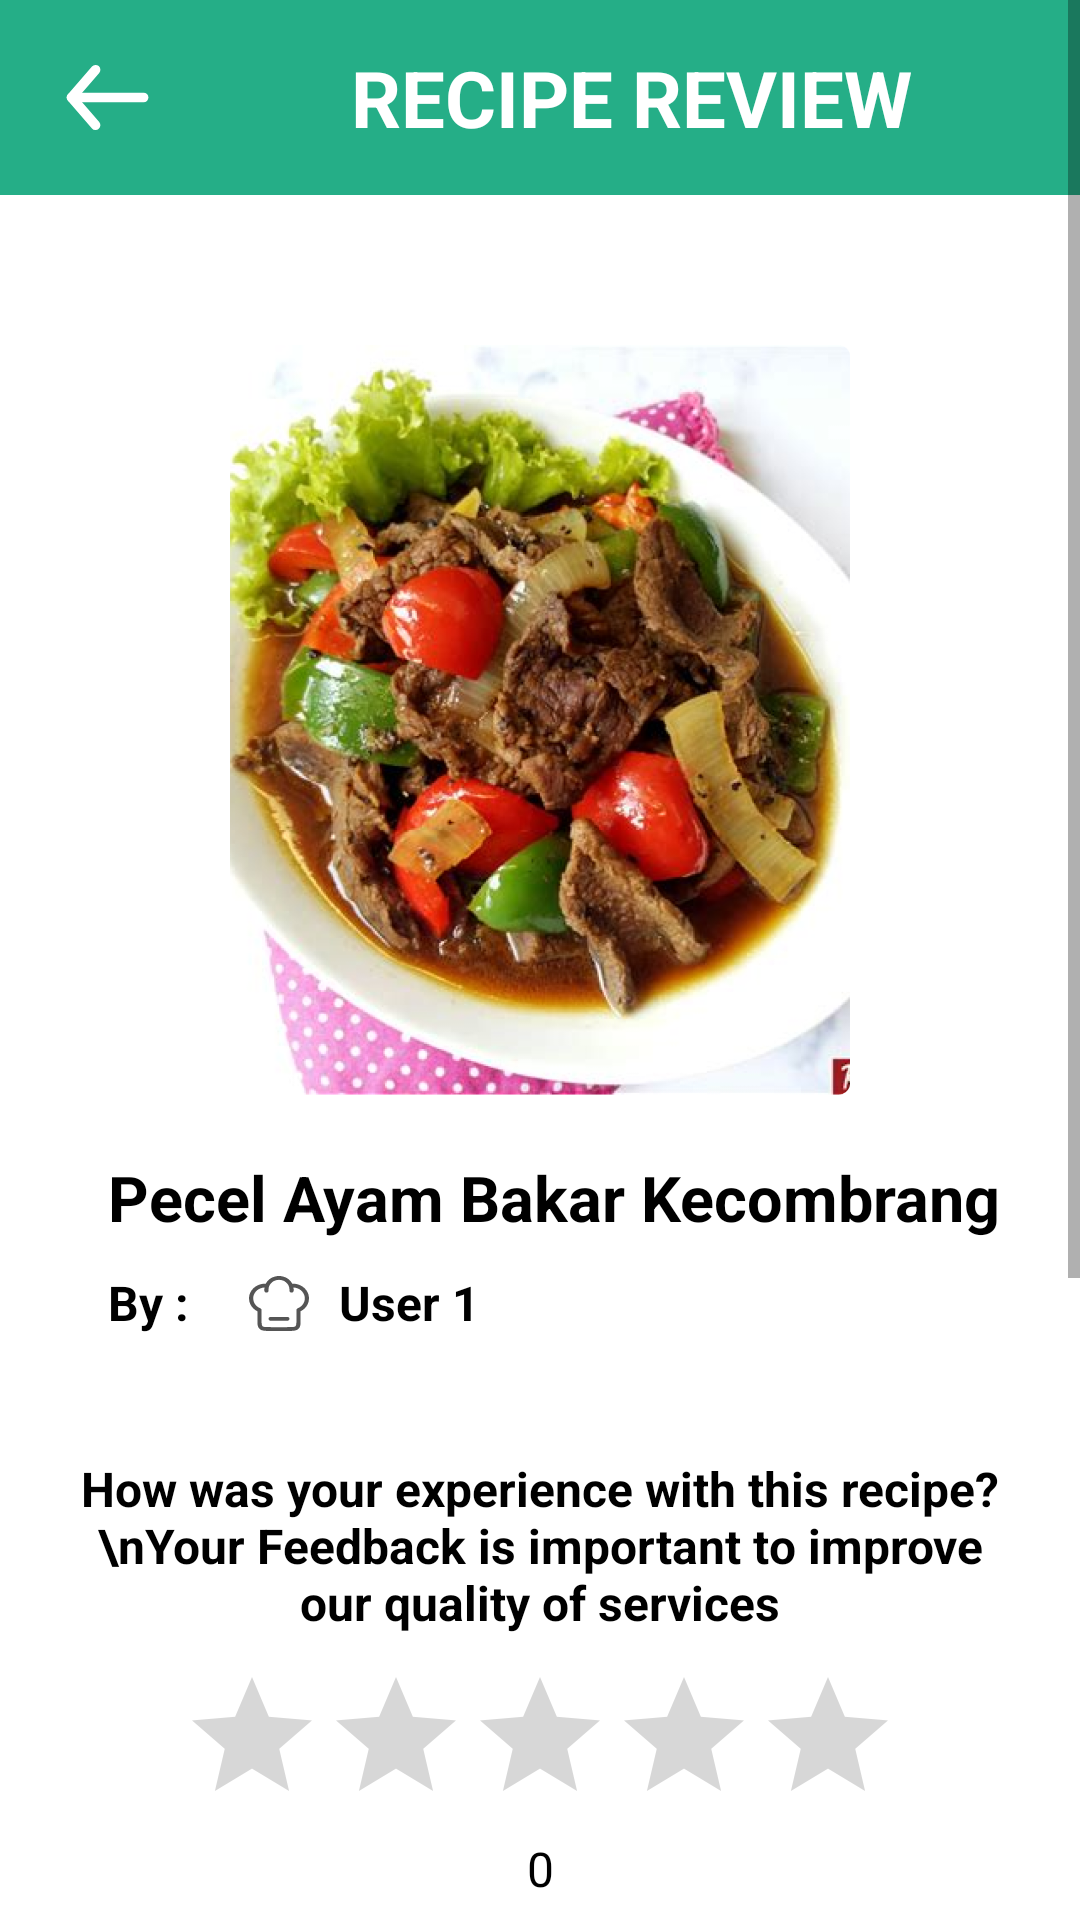

Icons on this 1080w x 1920h Android screen, each with its box as (x1, y1, x2, y2):
arrow left: (66, 65, 149, 130)
userfood: (249, 1276, 309, 1331)
